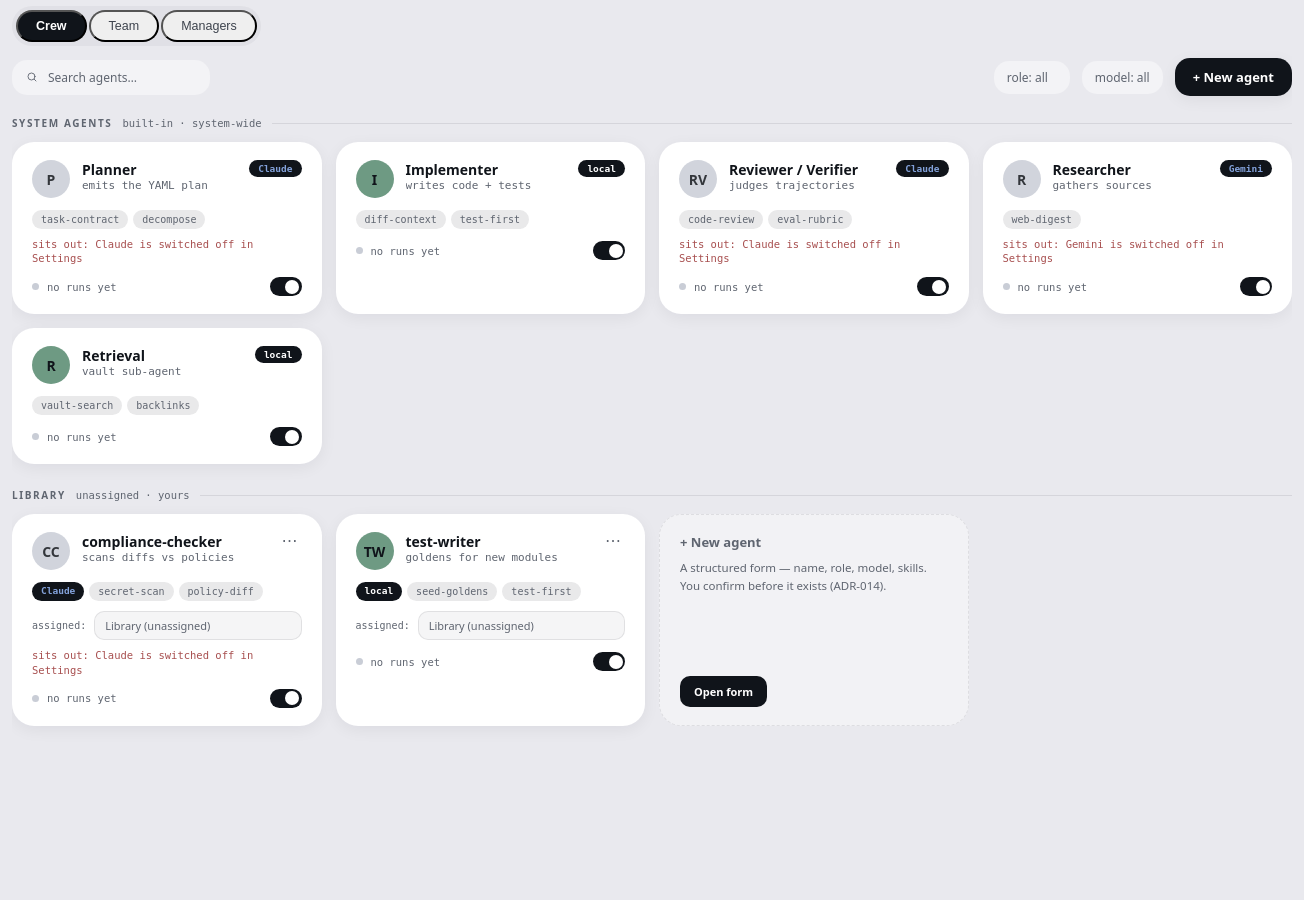
it: TeamLauncher — an agent on a provider that is not connected › says who is REASSIGNED, and why, BEFORE the launch
Click the tab "Team" at (124, 26), box x1=89 y1=10 x2=159 y2=42
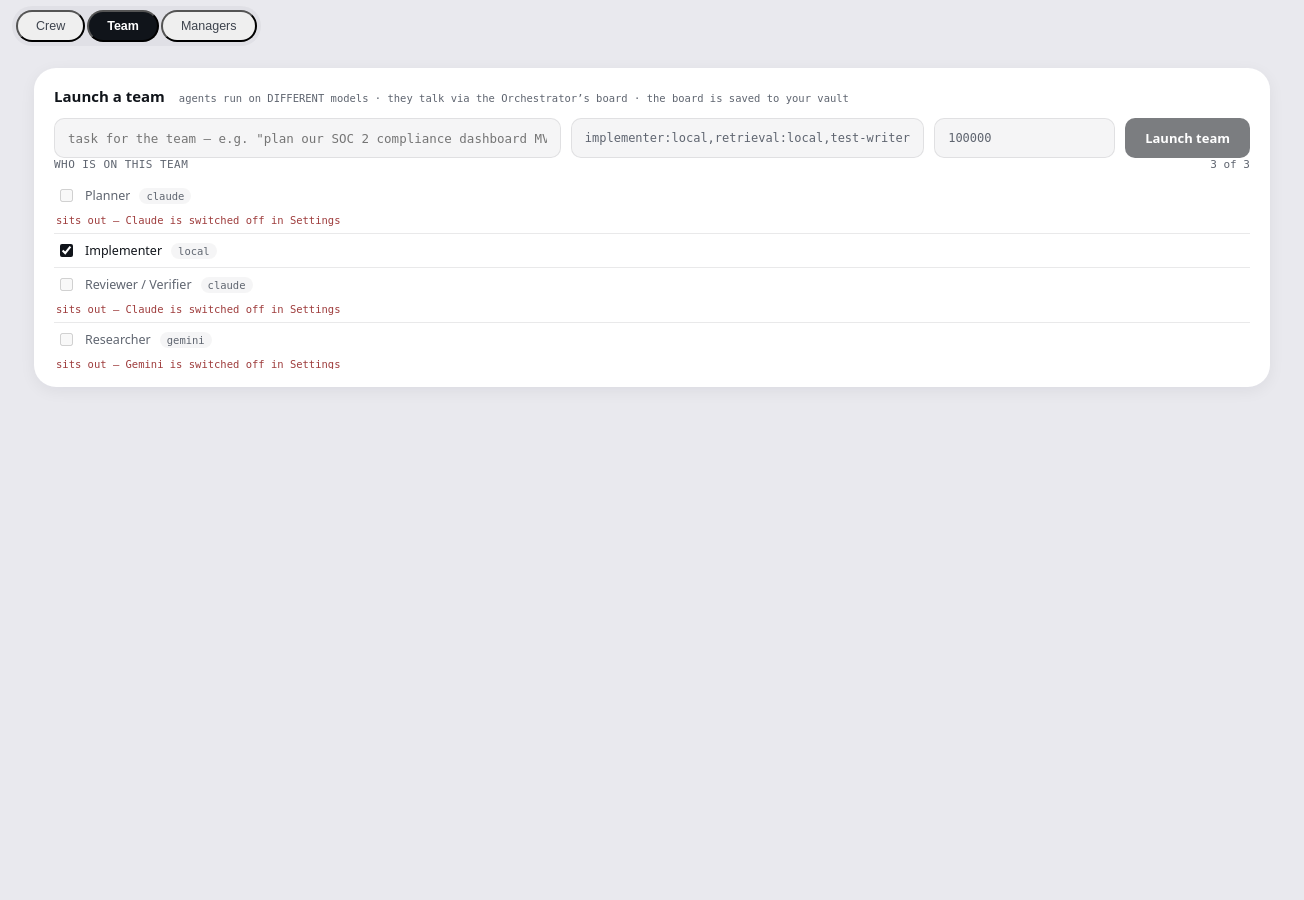
Replace the text in the field named "team roster" with "lead:local,critic:gemini-cli" at (748, 138), box x1=571 y1=118 x2=924 y2=158
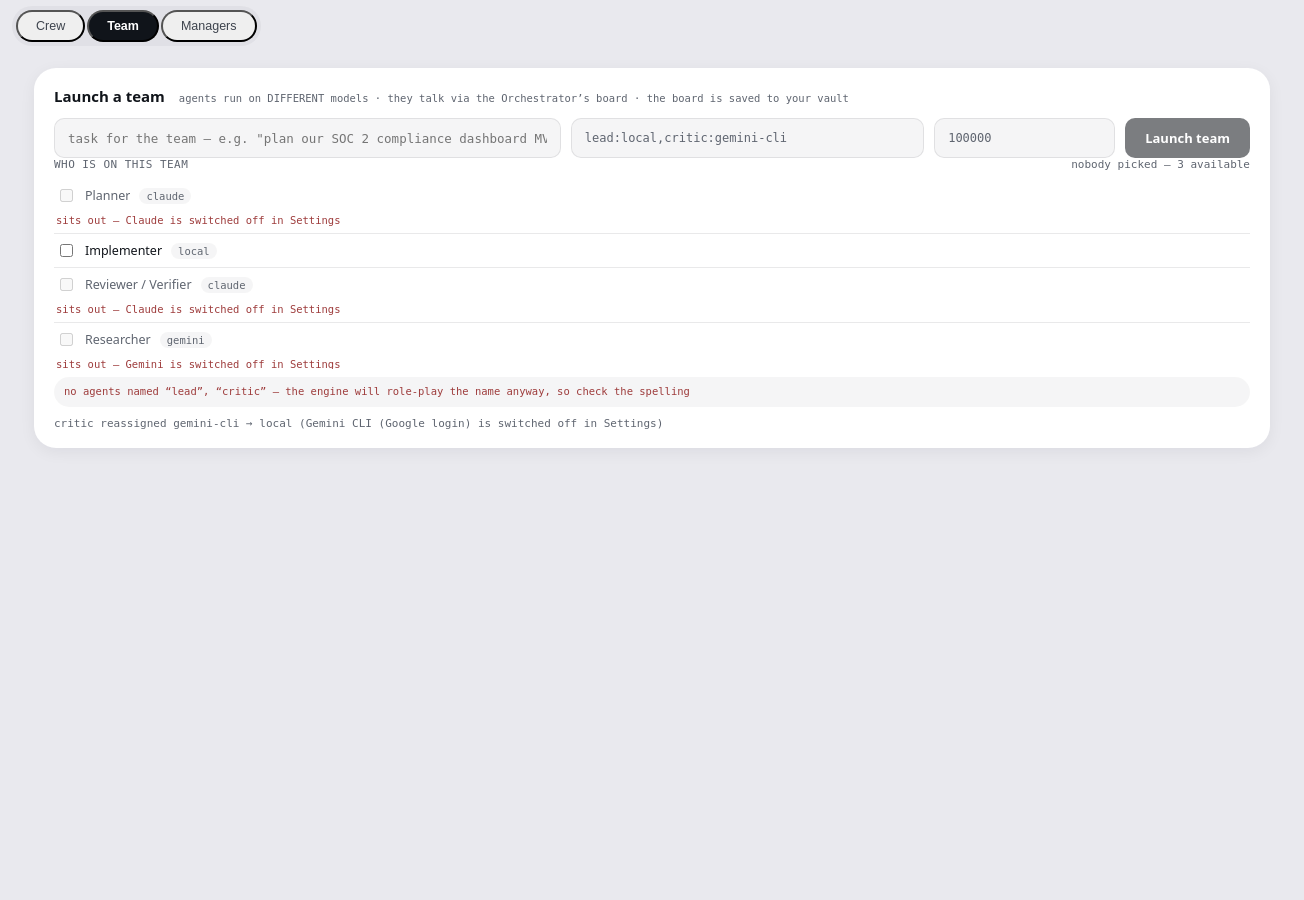
Now the text "critic reassigned" is shown, box x1=54 y1=417 x2=663 y2=430
Now the text "switched off in Settings" is shown, box x1=306 y1=417 x2=657 y2=430
